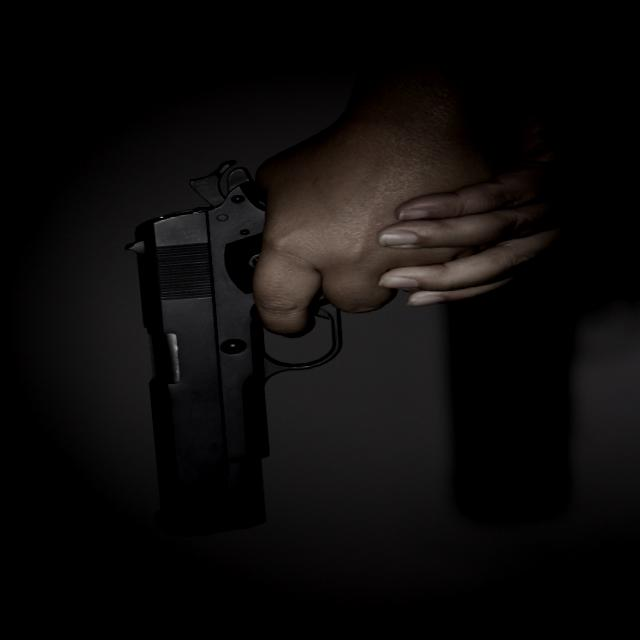handgun: (113, 148, 378, 538)
